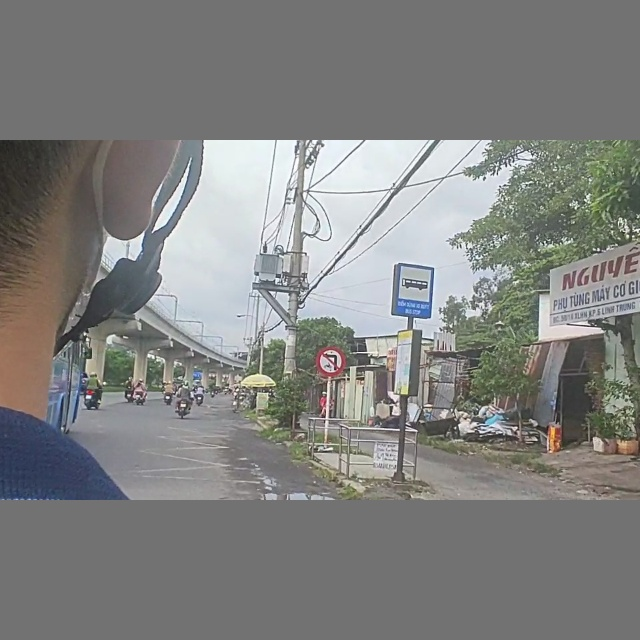I.434a: (392, 261, 433, 320)
P.123a: (315, 345, 346, 377)
